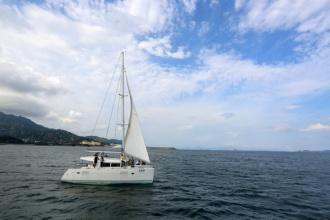fanchuan: (57, 43, 161, 186)
